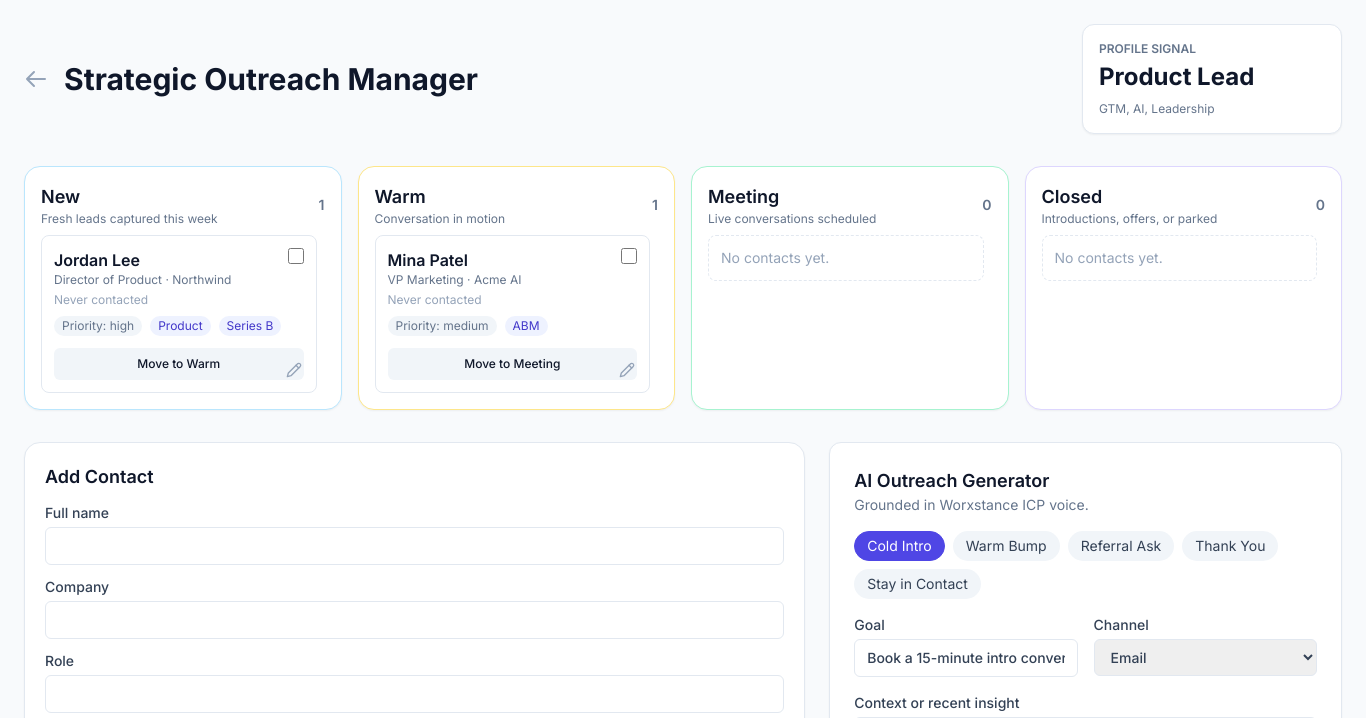
Test: NetworkingCRM › opens edit modal when edit button is clicked
The width and height of the screenshot is (1366, 718).
Click the button named "Edit contact" below "high" at {"x": 294, "y": 370}, box top-left (280, 356), bottom-right (308, 384)
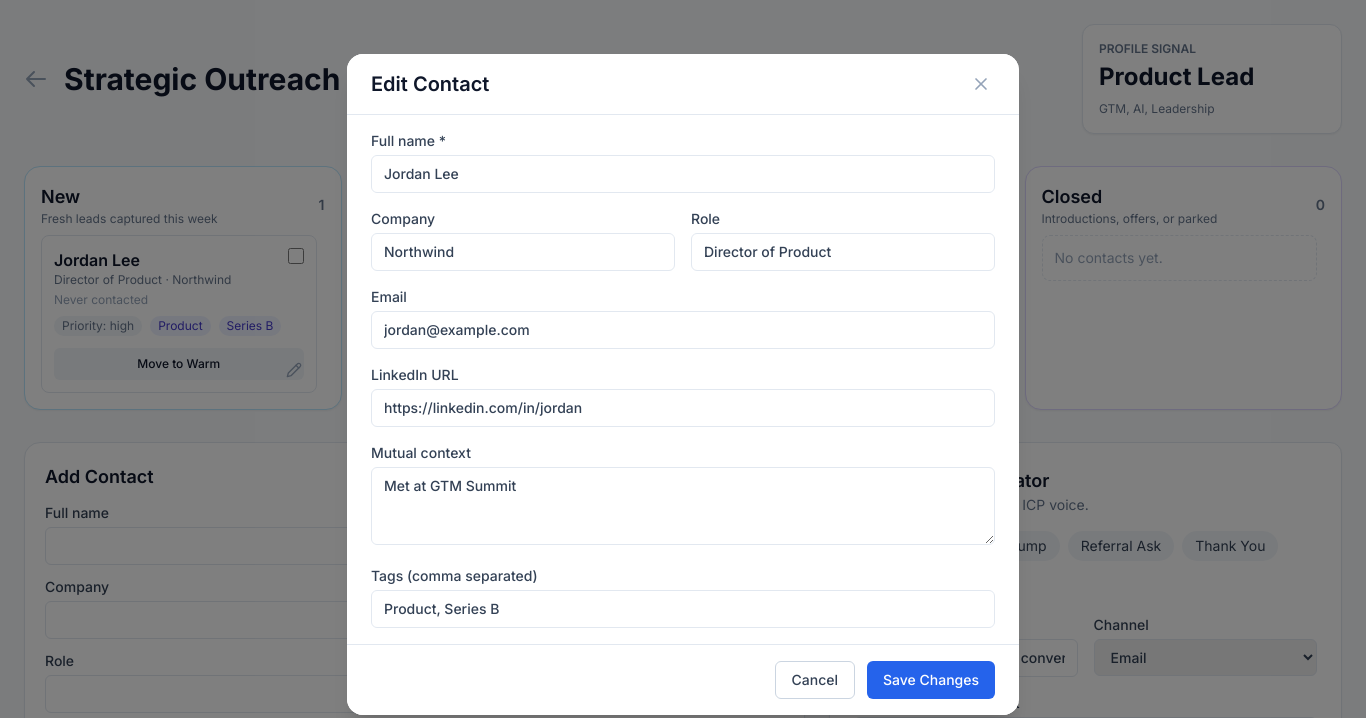
Expected: the heading "Edit Contact" is shown, top-left (371, 70), bottom-right (489, 98)
Expected: the field showing "Jordan Lee" is shown, top-left (371, 154), bottom-right (995, 192)
Expected: the field showing "Director of Product" is shown, top-left (691, 232), bottom-right (995, 270)
